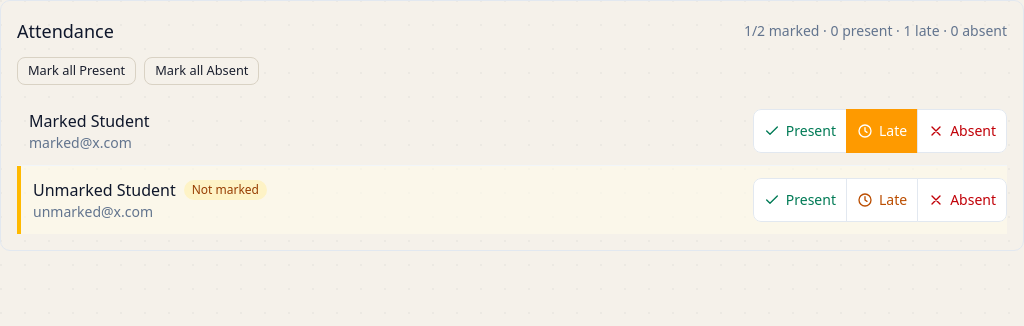
Scenario: AttendanceSection (s12) › Mark all Absent shows an undo affordance
Expected: the text "Marked Student" is shown, [29,109,150,133]
Click the button "Mark all Absent" at coordinates (202, 71), box [144,57,260,85]
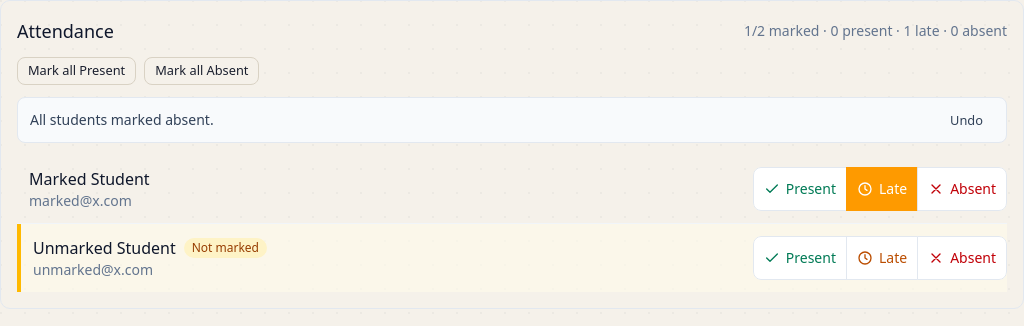
Now the button "Undo" is shown, box [939,106,994,134]
